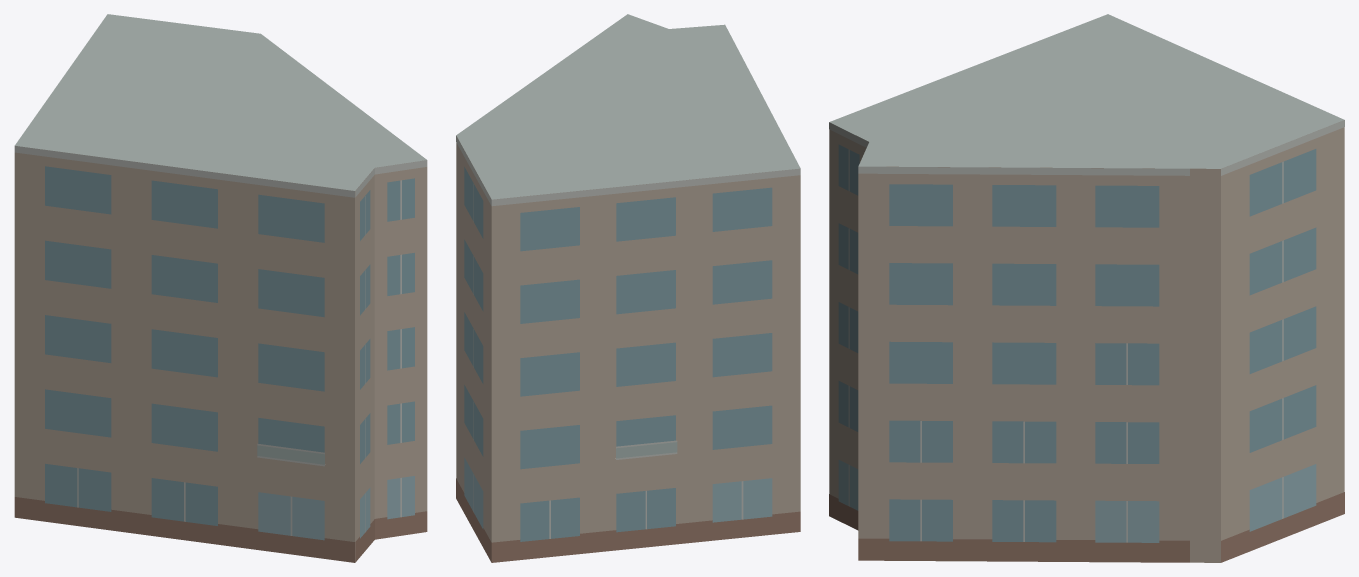
Rendered from survey-upis-32956342.glb.
3 renders of one model, left to right at view 1: azimuth 30°, elevation 25°; view 2: azimuth 150°, elevation 25°; view 3: azimuth 270°, elevation 25°, orthographic. The views are drawn at different scales.
Visible parts, largest first — view 1: survey-upis-32956342.tmp; view 2: survey-upis-32956342.tmp; view 3: survey-upis-32956342.tmp.
Part boxes in pixels (x1,y1,x2,y2): survey-upis-32956342.tmp: (14, 14, 427, 562); survey-upis-32956342.tmp: (456, 14, 800, 562); survey-upis-32956342.tmp: (829, 14, 1344, 562).
Size of the model in its own units: 11.3 by 13.4 by 15.9.
